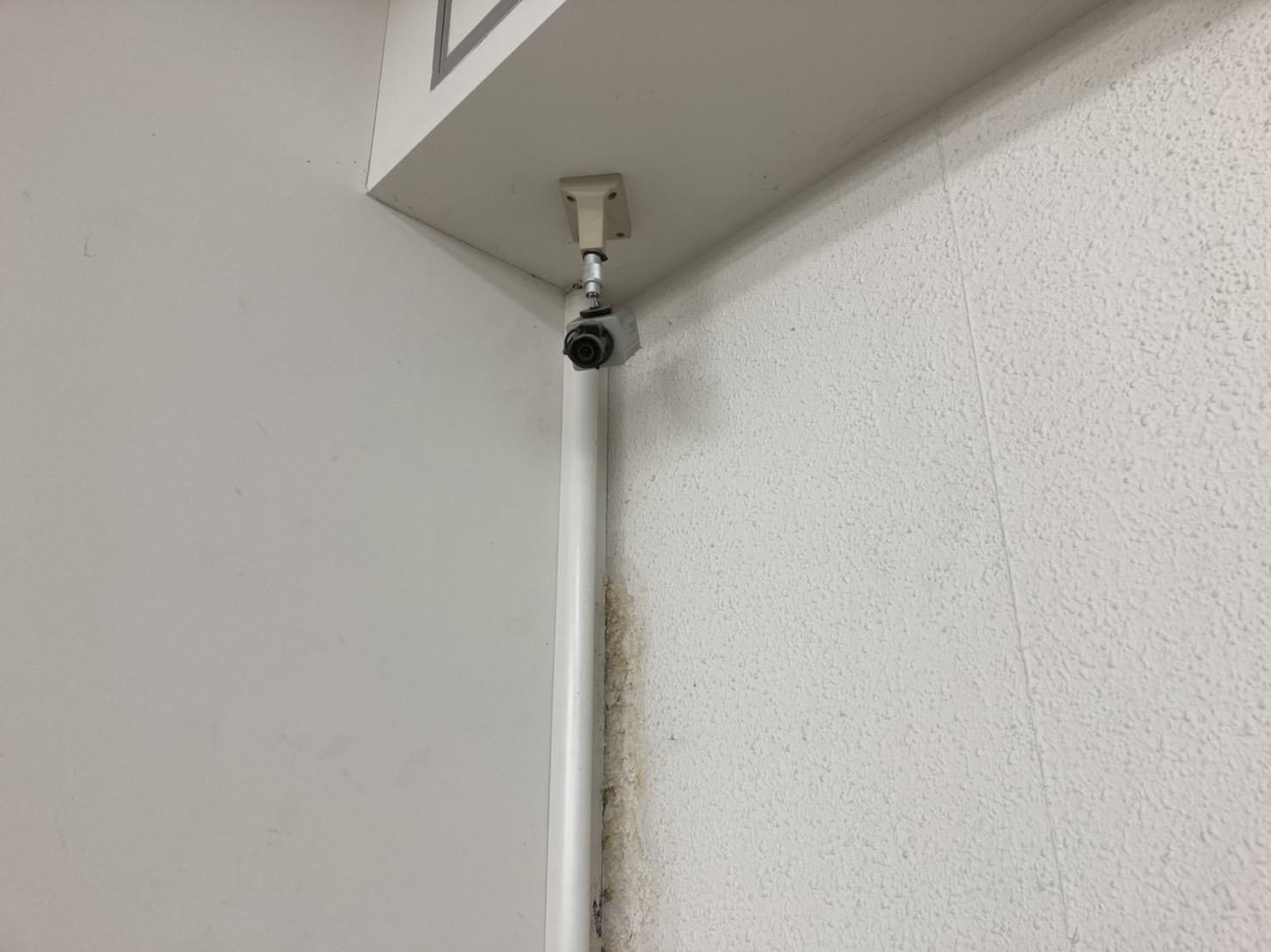tutu: (559, 302, 650, 378)
